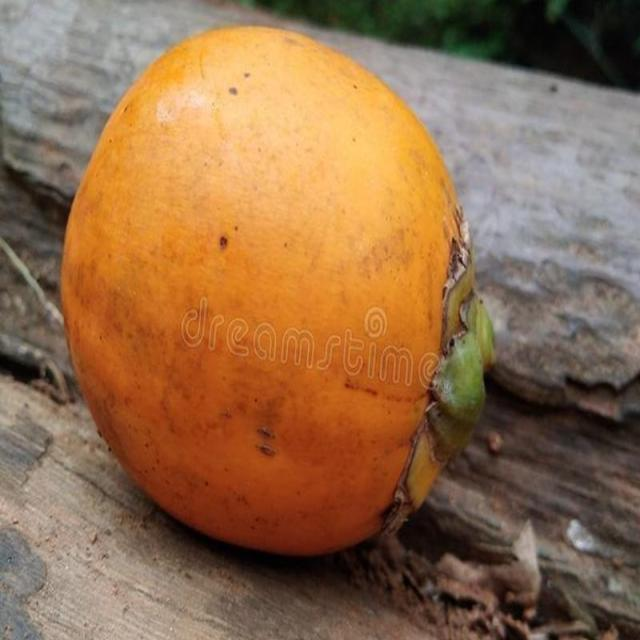good: (60, 28, 495, 561)
